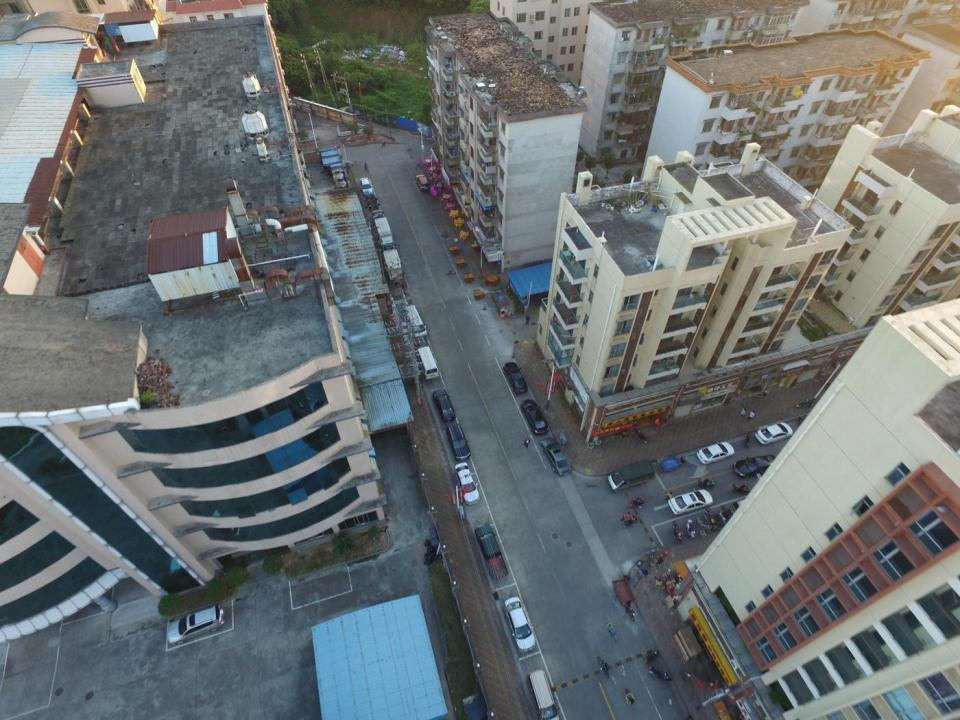car: (166, 606, 226, 645), (503, 594, 537, 653), (666, 487, 716, 513), (538, 436, 572, 474), (454, 461, 482, 506), (733, 453, 778, 479), (445, 422, 475, 459), (520, 398, 548, 437), (695, 438, 735, 464), (501, 359, 527, 395), (430, 387, 455, 421), (754, 421, 791, 443), (358, 178, 374, 197), (372, 208, 386, 228), (416, 174, 429, 194)
truck: (474, 523, 508, 580), (607, 459, 655, 492), (373, 217, 395, 252), (383, 248, 404, 281)
van: (526, 667, 560, 720), (402, 303, 426, 339), (417, 345, 439, 380)
